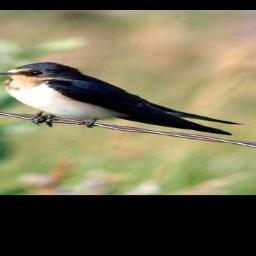Swallow: (0, 60, 243, 139)
